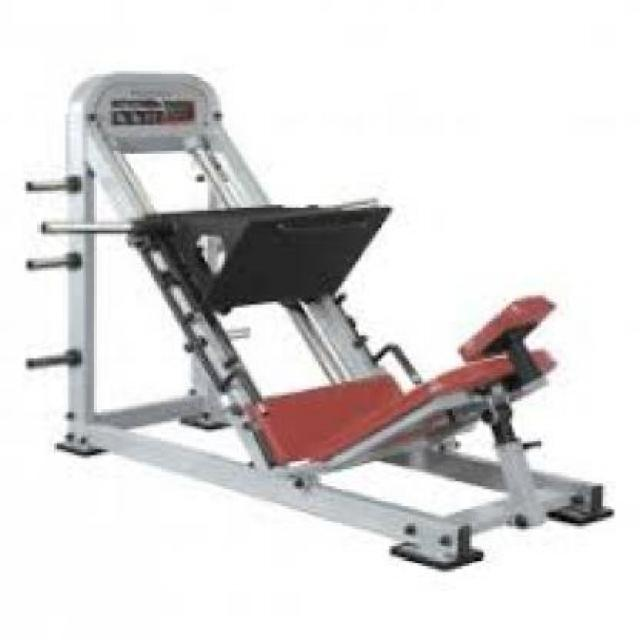leg press: (16, 70, 622, 576)
